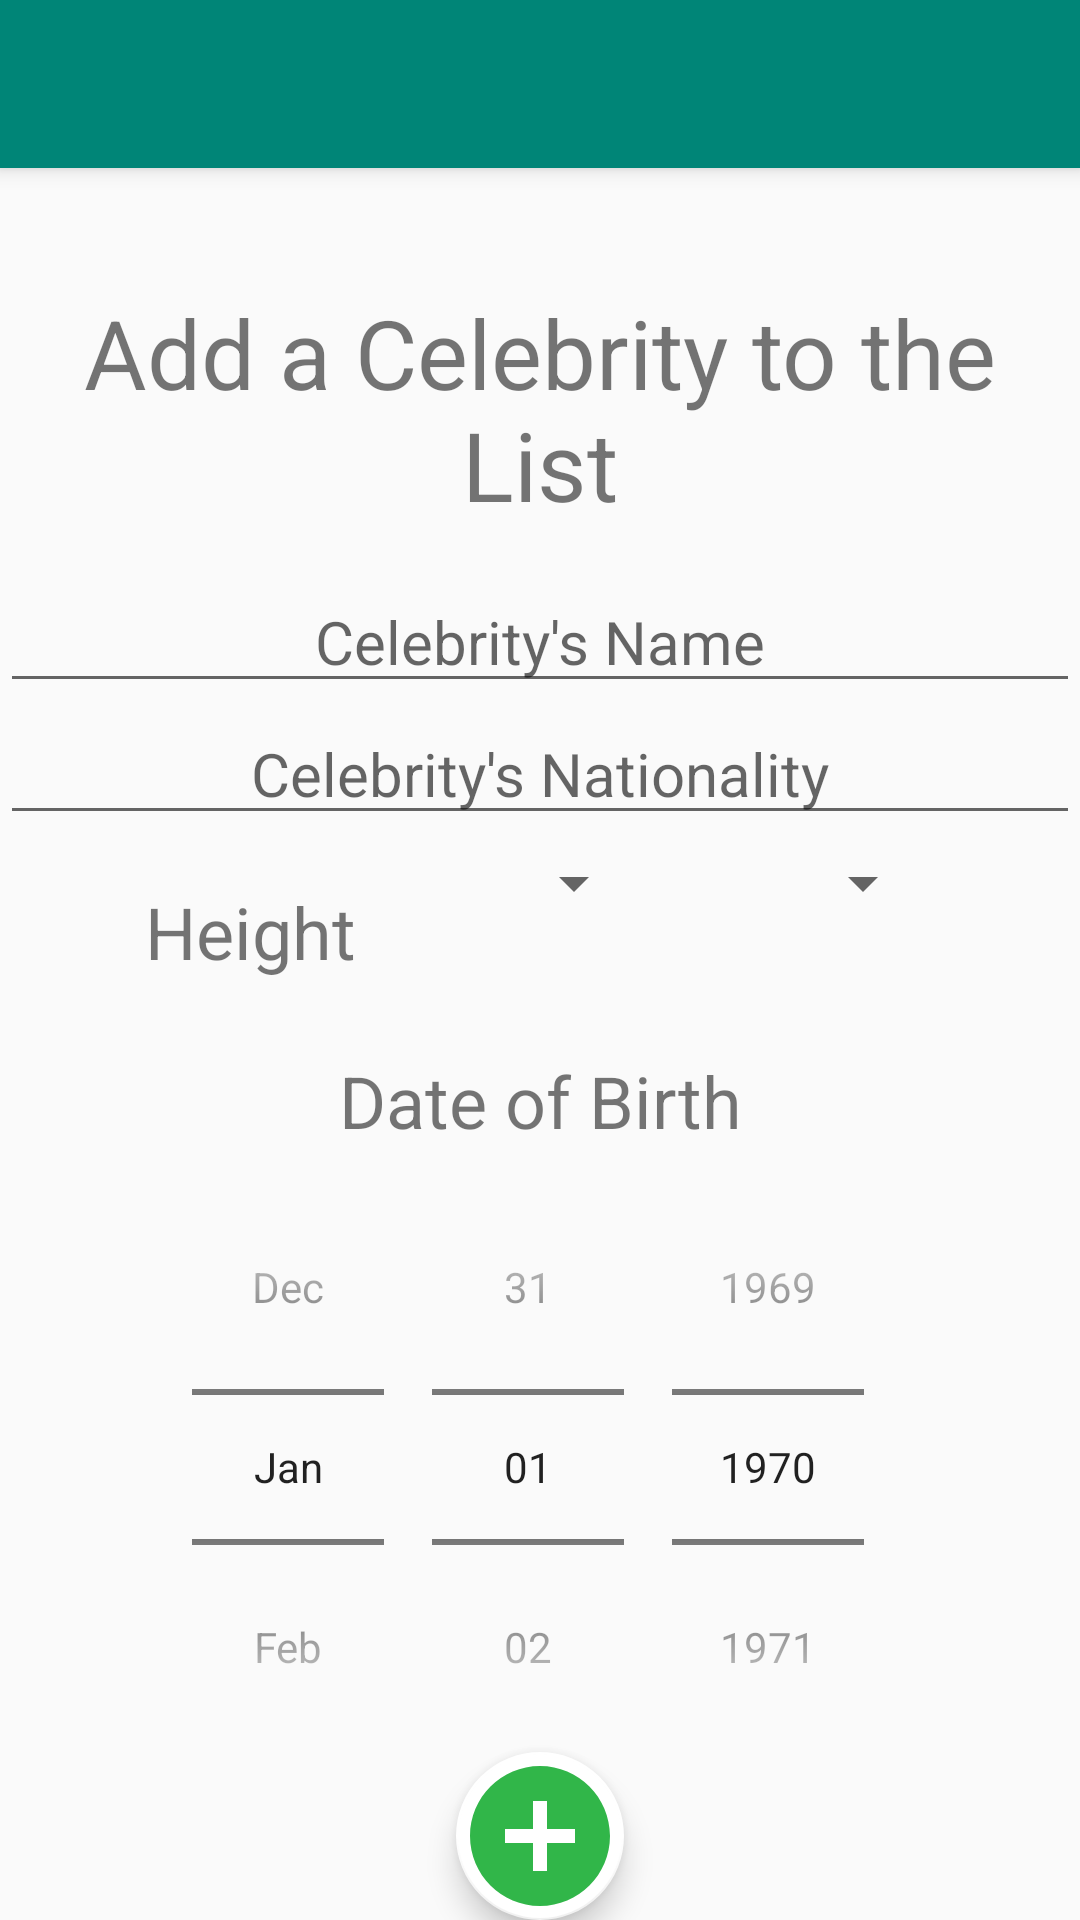

Named icons in this screenshot (1080x1920) and their centers, point (x, y):
add circle: point (540, 1843)
